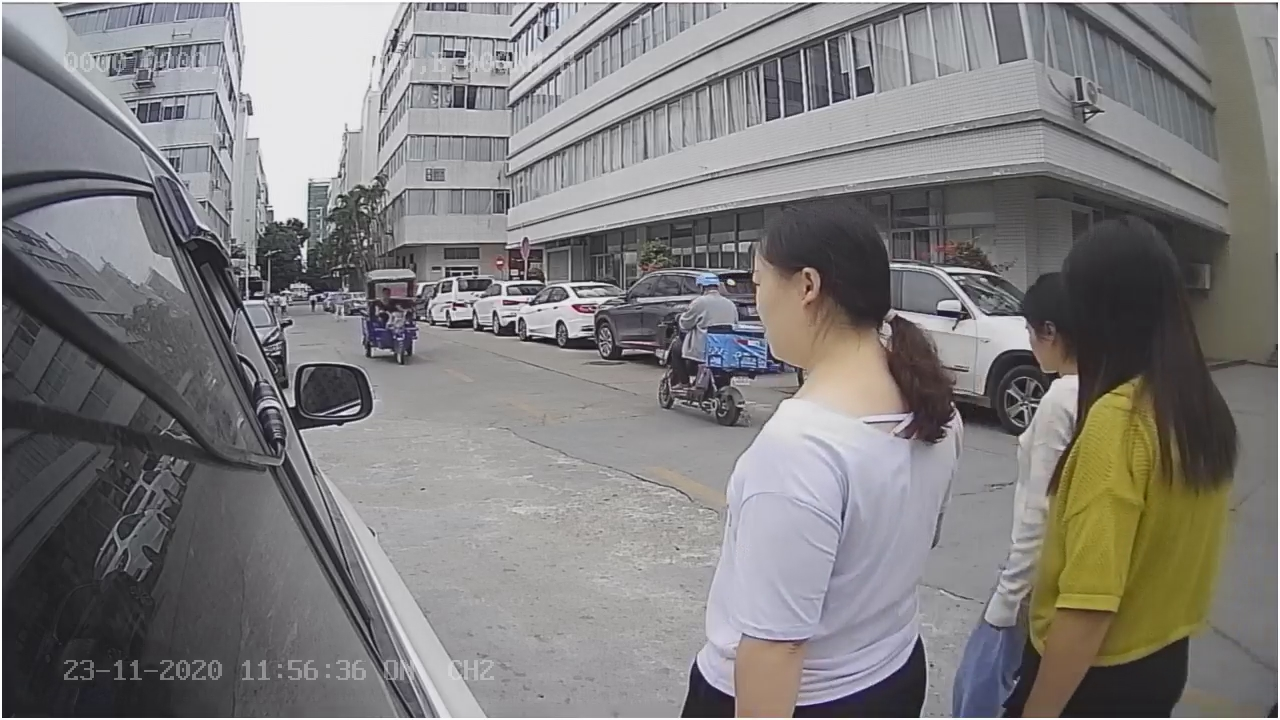person: (713, 202, 954, 710), (1041, 202, 1247, 712)
